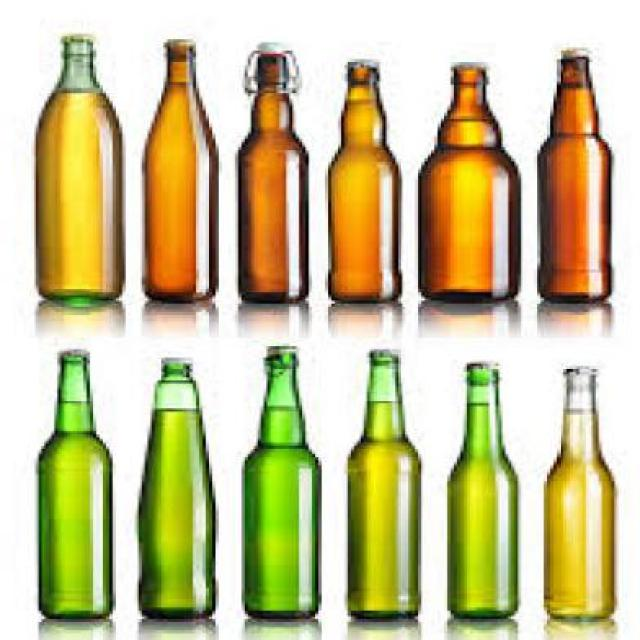kaca: (418, 60, 518, 302), (29, 38, 122, 298), (136, 358, 212, 618), (242, 350, 316, 616), (139, 42, 215, 300), (344, 350, 418, 614), (37, 356, 110, 620), (444, 361, 518, 619), (540, 367, 616, 617), (534, 49, 609, 302), (326, 60, 402, 298), (235, 49, 305, 302)
